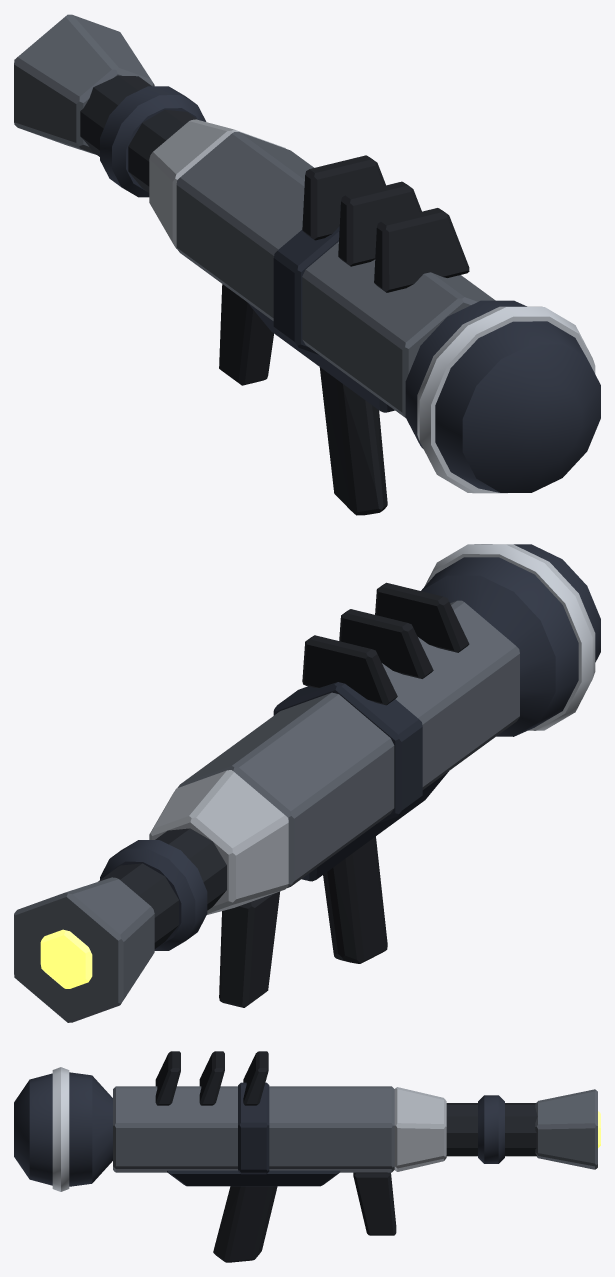
The model's file is w_b_beam_cannon.glb.
3 renders of one model, top to bottom at view 1: azimuth 30°, elevation 25°; view 2: azimuth 150°, elevation 25°; view 3: azimuth 270°, elevation 25°, orthographic. The views are drawn at different scales.
Parts seen in each view (by area): view 1: weapon_body, weapon_metal; view 2: weapon_body, weapon_metal, weapon; view 3: weapon_body, weapon_metal.
Part boxes in pixels (box(x1,y1,x2,y2)): weapon_body: box(14, 14, 495, 515); weapon_metal: box(80, 75, 600, 493); weapon_body: box(14, 582, 519, 1022); weapon_metal: box(98, 544, 600, 950); weapon: box(40, 929, 92, 988); weapon_body: box(113, 1051, 597, 1262); weapon_metal: box(14, 1067, 537, 1191).
Size of the model in its own units: 1.52 by 2.74 by 7.32.
